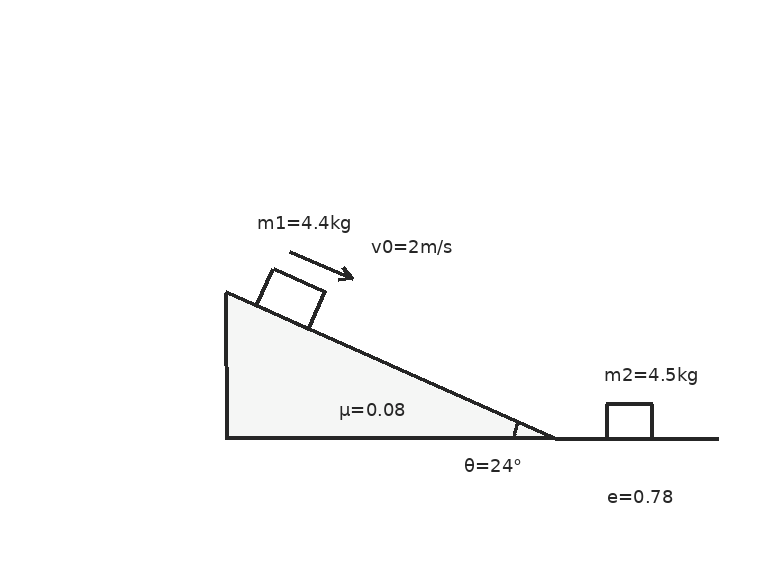block: (254, 266, 326, 330), (604, 402, 654, 440)
ramp: (224, 290, 556, 440)
